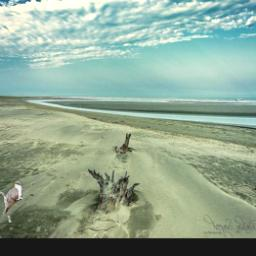Cuckoo: (0, 181, 23, 224)
